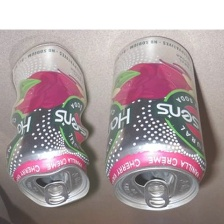can: (103, 34, 208, 213), (2, 41, 93, 211)
